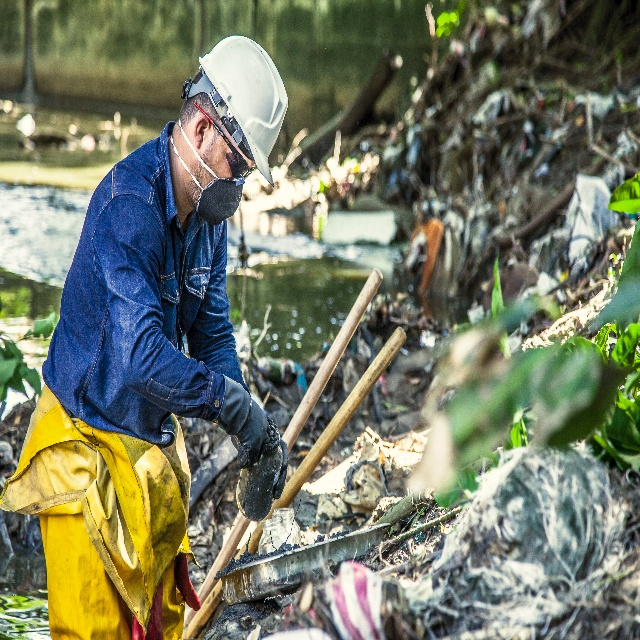Gafas: (193, 101, 255, 182)
Guantes: (212, 376, 268, 468), (273, 437, 289, 501)
Mascara: (169, 119, 244, 225)
